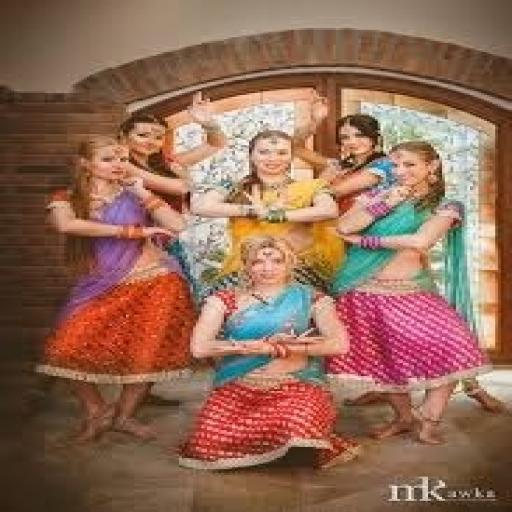dancing: (103, 97, 493, 512)
